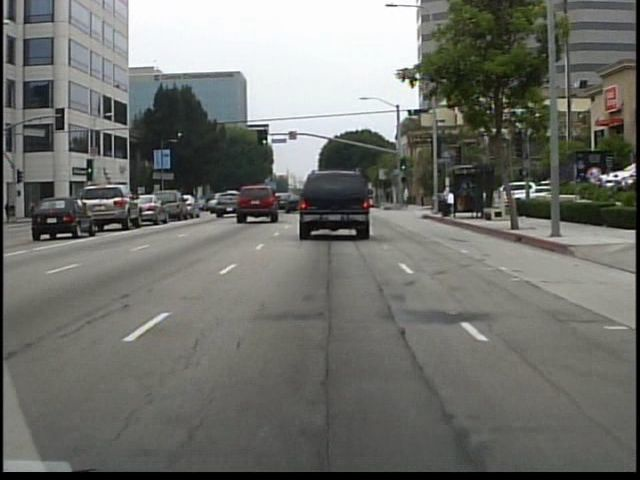person: (401, 184, 414, 211), (418, 181, 430, 210), (384, 184, 395, 208)
